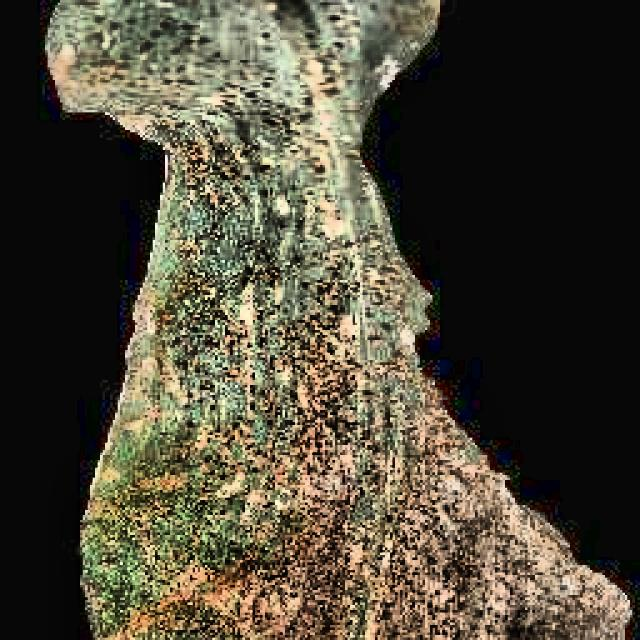common_rust: (73, 0, 560, 640)
